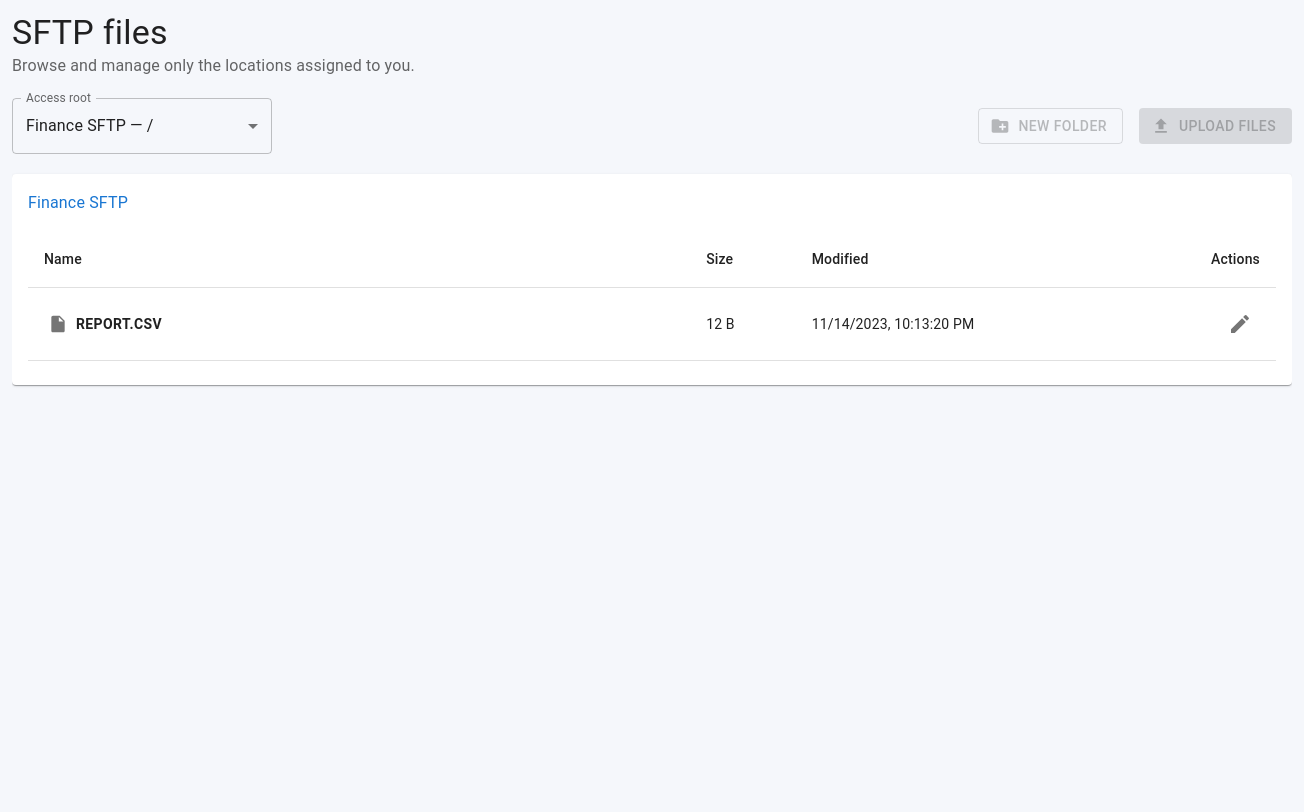
Test: inline file and folder rename › edits the filename in its table row and saves with Enter
This screenshot has width=1304, height=812.
Click the button named "Rename report.csv".
click(1240, 324)  # box left=1220, top=304, right=1260, bottom=344
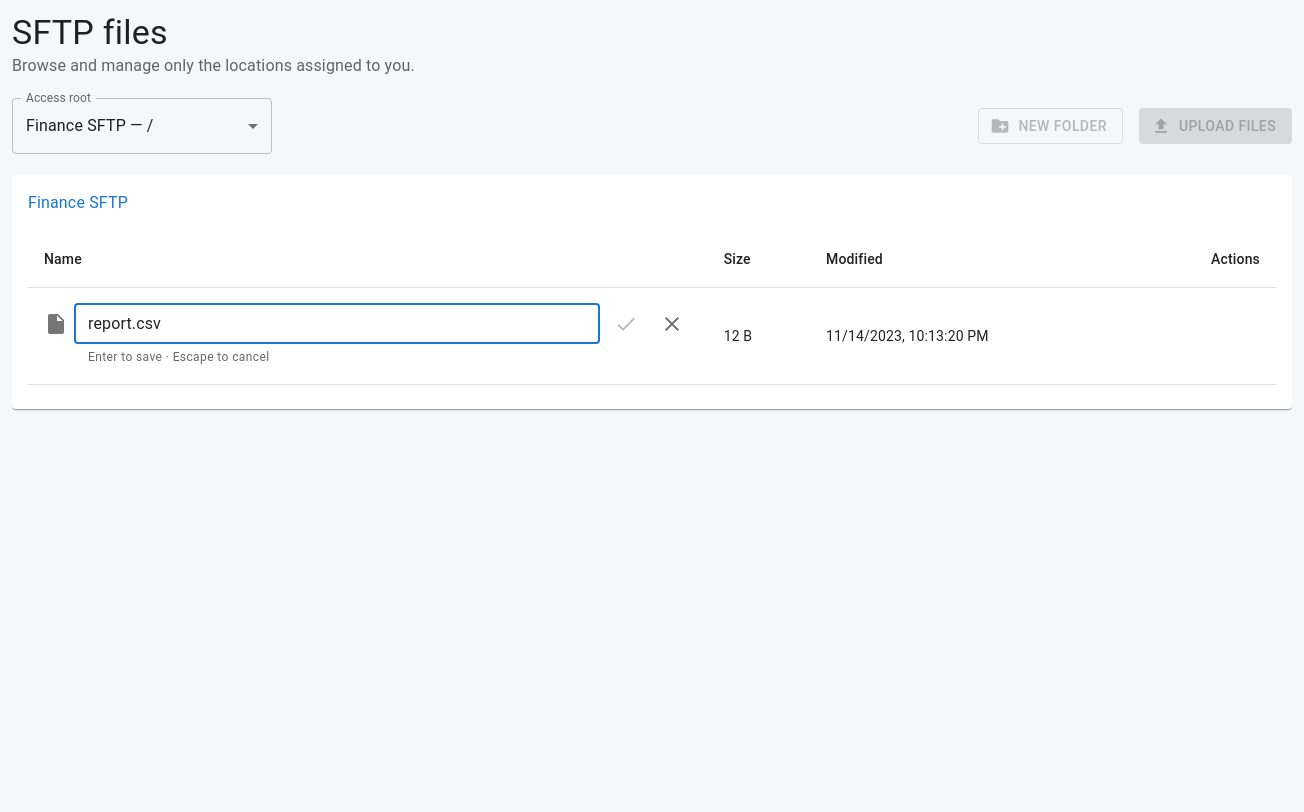
Result: the field named "New name for report.csv" holds "report.csv"
Replace the text in the field named "New name for report.csv" with "final-report.csv" at (337, 324), box left=74, top=304, right=600, bottom=344
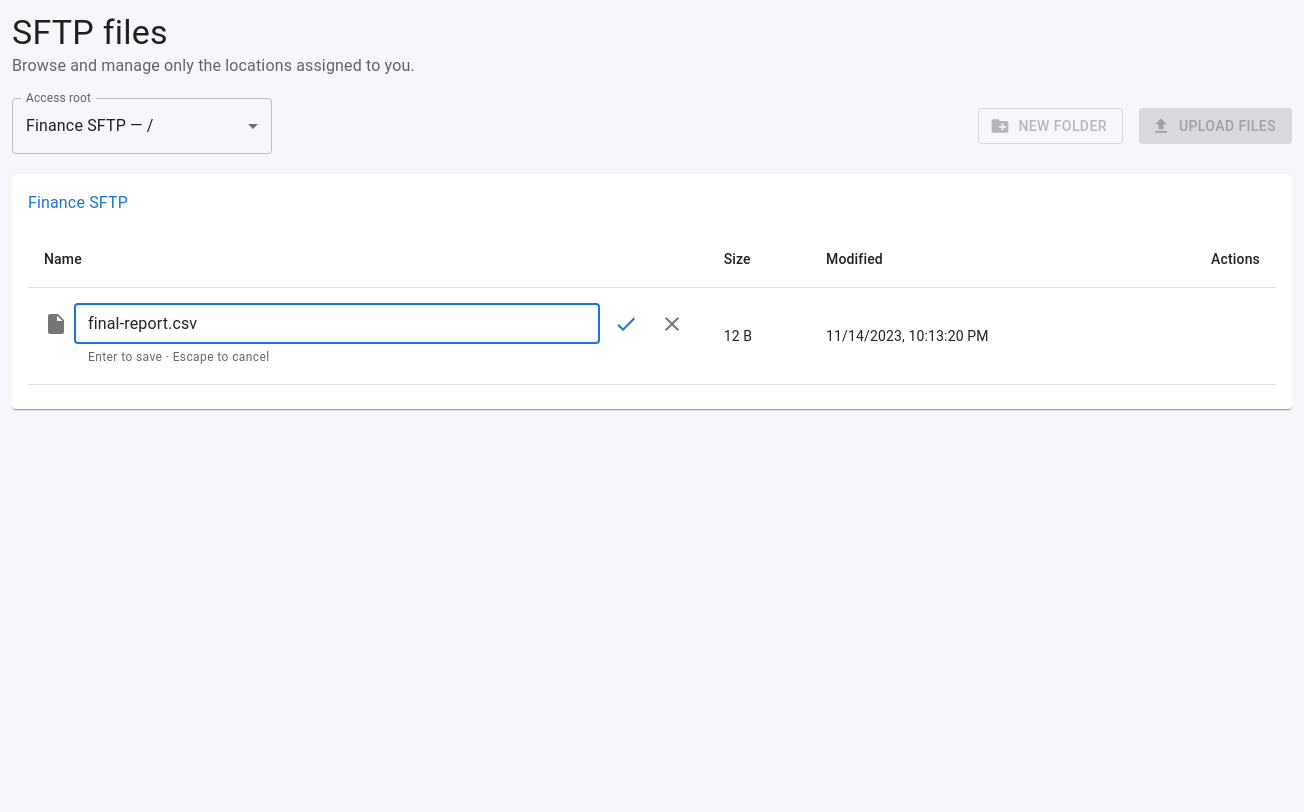
Press Enter in the field named "New name for report.csv", box left=74, top=304, right=600, bottom=344
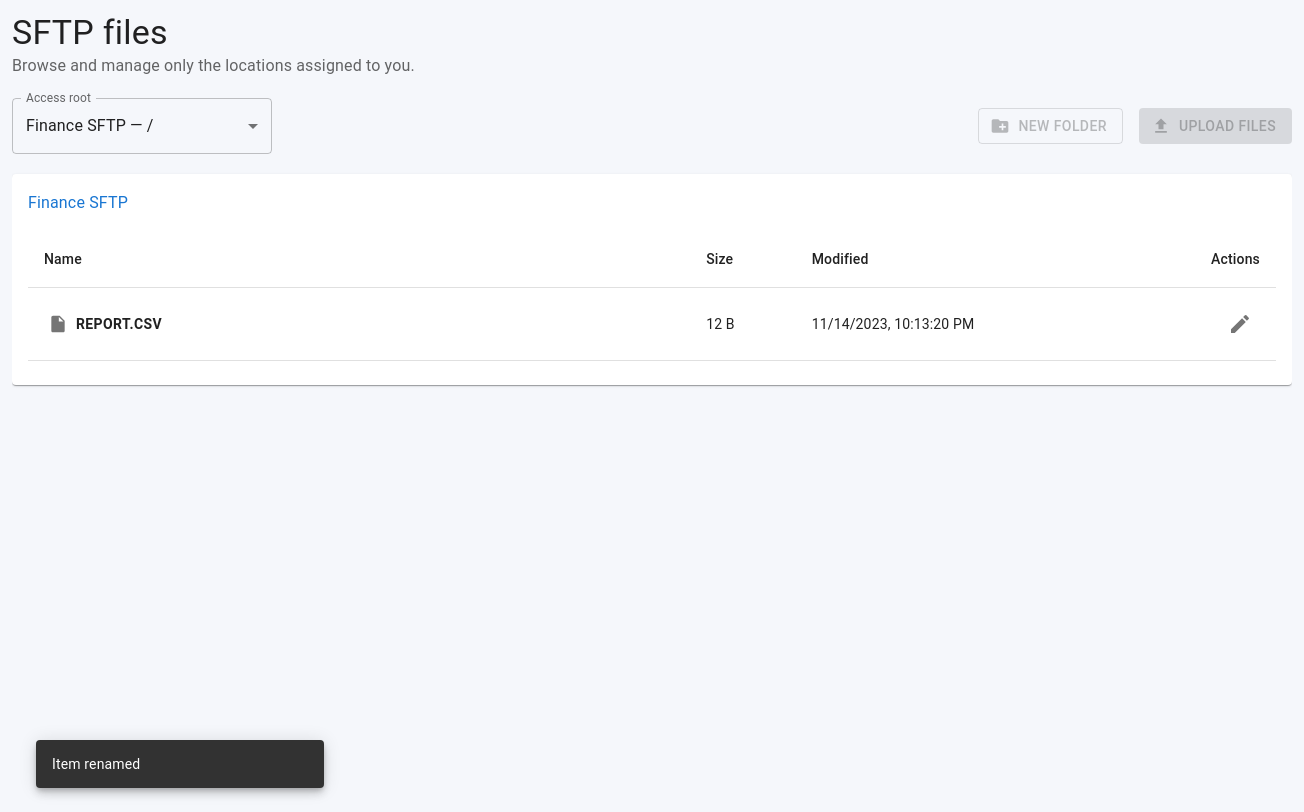
Result: the text "Item renamed" is shown at left=52, top=756, right=140, bottom=772
